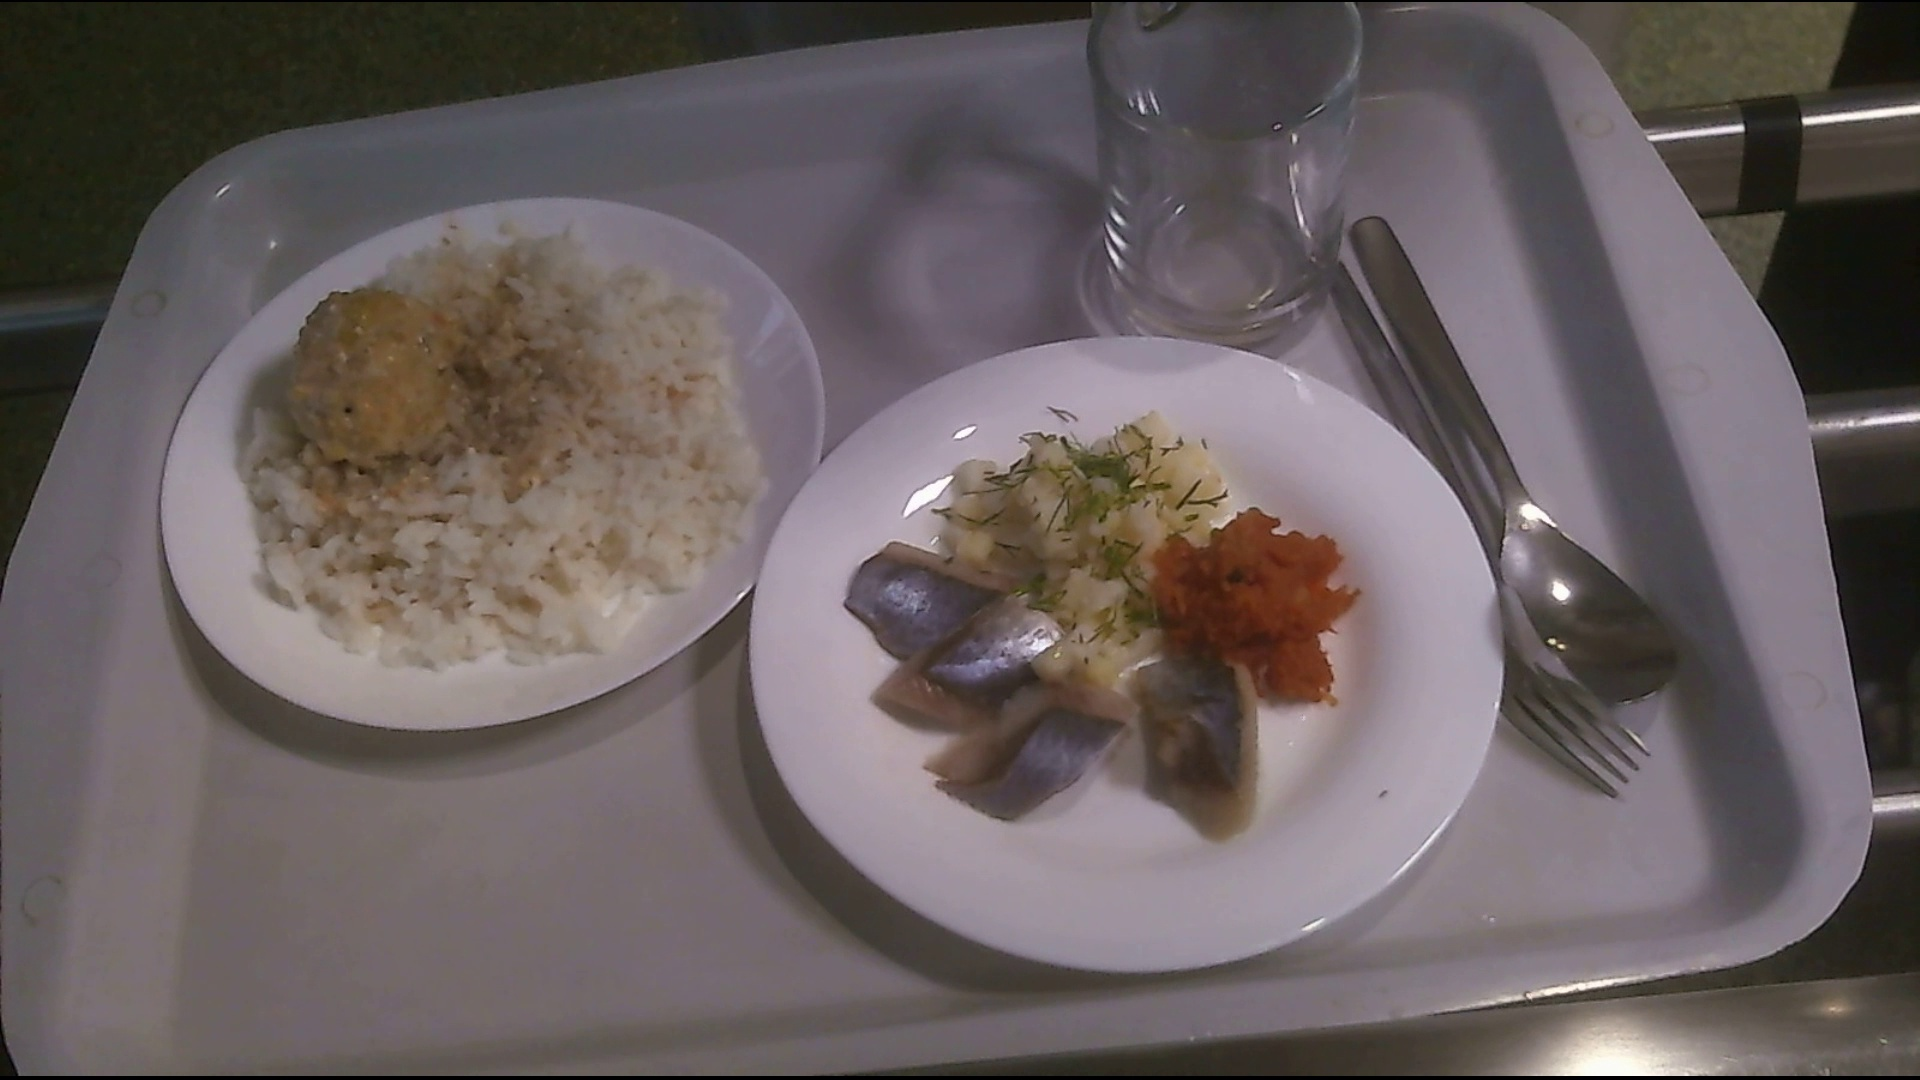cutlery: (1332, 218, 1677, 804)
drink: (1087, 1, 1357, 336)
plate: (756, 335, 1507, 981), (177, 212, 820, 735)
